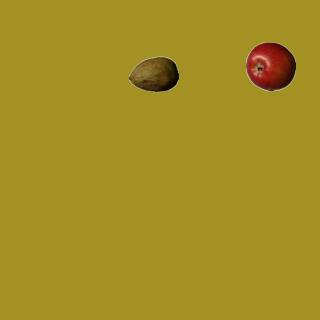Apple Braeburn: (245, 41, 295, 91)
Papaya: (128, 49, 178, 99)
